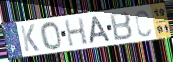A: (89, 15, 112, 45)
B: (108, 10, 134, 42)
C: (134, 9, 152, 38)
H: (63, 17, 90, 49)
K: (19, 24, 41, 53)
O: (39, 21, 63, 51)
